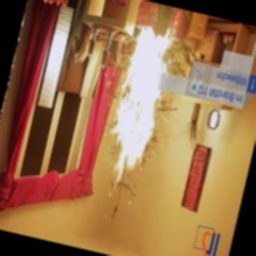fire: (92, 19, 182, 187)
